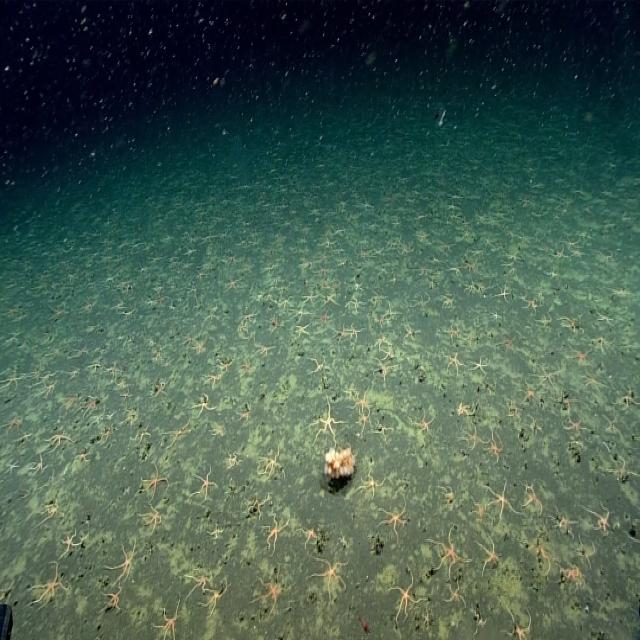brittle-stars: (428, 526, 464, 578), (32, 561, 68, 603), (387, 572, 417, 619), (487, 478, 517, 524), (314, 398, 341, 448), (204, 577, 233, 622), (110, 537, 139, 581), (313, 557, 347, 594), (381, 494, 408, 540), (259, 568, 286, 611), (140, 462, 168, 502), (503, 603, 532, 640), (156, 600, 181, 640), (582, 506, 612, 536), (184, 566, 213, 596), (260, 449, 285, 482), (476, 536, 500, 570), (193, 465, 216, 500), (266, 514, 290, 546), (553, 504, 575, 538), (560, 559, 583, 591), (141, 502, 163, 533), (59, 528, 84, 555), (0, 413, 28, 437), (358, 469, 381, 498), (463, 425, 485, 455), (523, 484, 543, 517), (101, 582, 124, 610), (583, 368, 605, 395), (42, 497, 66, 521), (444, 582, 466, 608), (521, 377, 539, 408), (45, 428, 72, 448), (415, 410, 436, 435), (564, 415, 586, 438), (486, 435, 504, 461), (412, 288, 430, 314), (443, 353, 465, 374), (194, 393, 214, 416), (356, 406, 372, 434), (373, 359, 391, 383), (353, 388, 370, 413), (442, 321, 462, 342), (471, 499, 488, 523), (31, 453, 47, 478), (496, 282, 512, 306), (468, 358, 489, 376), (348, 294, 365, 316), (570, 346, 588, 366), (500, 333, 517, 354), (302, 523, 318, 545), (203, 370, 222, 388), (256, 341, 274, 360), (300, 290, 318, 308), (4, 458, 20, 478), (82, 397, 97, 418), (192, 336, 207, 357), (347, 323, 363, 342), (295, 321, 311, 340), (370, 289, 386, 308), (153, 380, 168, 400), (238, 357, 252, 378), (217, 357, 233, 375), (227, 449, 240, 471), (62, 393, 77, 412), (335, 323, 349, 343), (318, 309, 333, 327), (440, 291, 454, 310), (382, 344, 397, 361), (235, 402, 249, 419), (278, 293, 292, 310), (225, 275, 238, 293), (403, 324, 415, 342), (422, 609, 432, 630), (120, 388, 132, 403), (116, 378, 126, 390)
